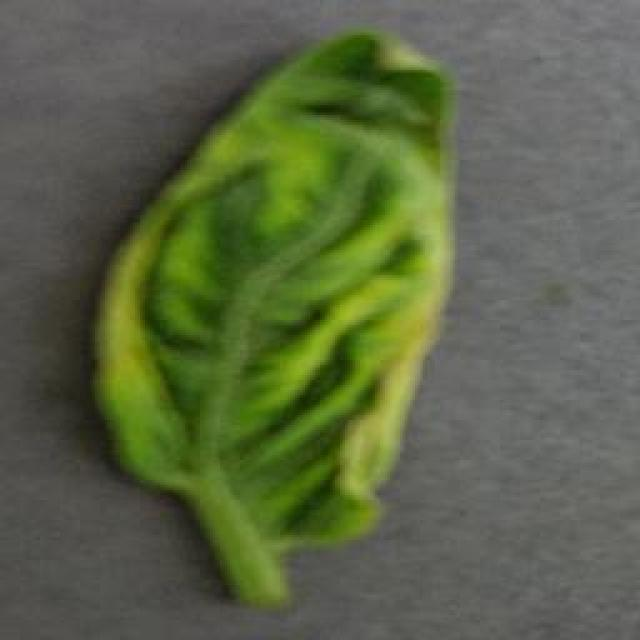Tom_Yellow_Leaf_Curl_Virus: (135, 51, 439, 540)
